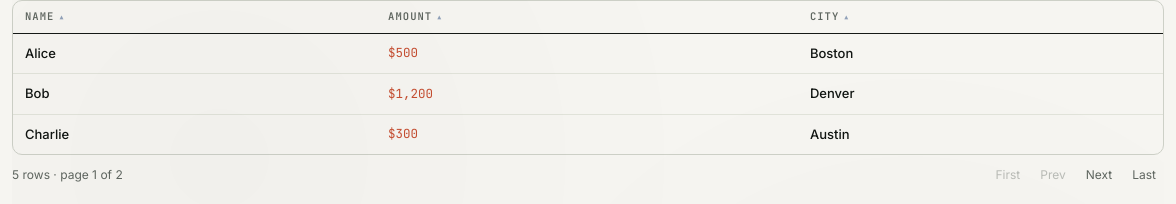
Test: TableExplorer › navigates back with Prev
The image size is (1176, 204).
Step 1. Click the button "Next" → (1099, 175), box [1078,163,1120,187]
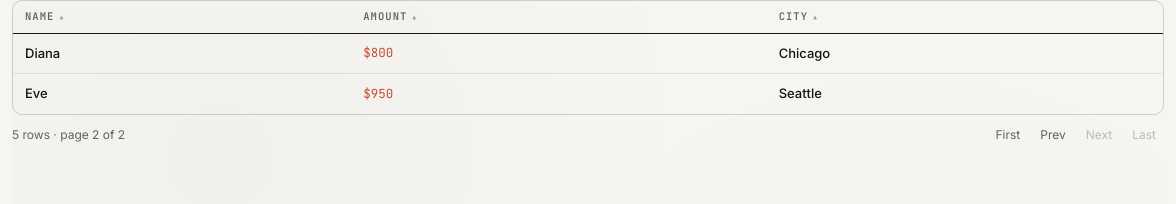
Step 2. Click the button "Prev" → (1053, 135), box [1032,123,1074,147]
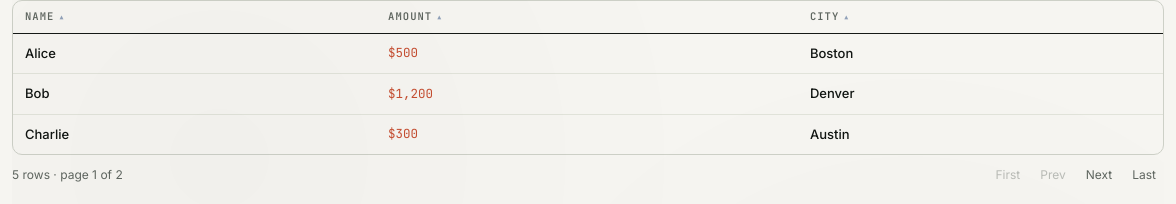
Result: the text "Alice" is shown at [25,45,56,61]
Result: the text "5 rows · page 1 of 2" is shown at [12,167,123,183]
